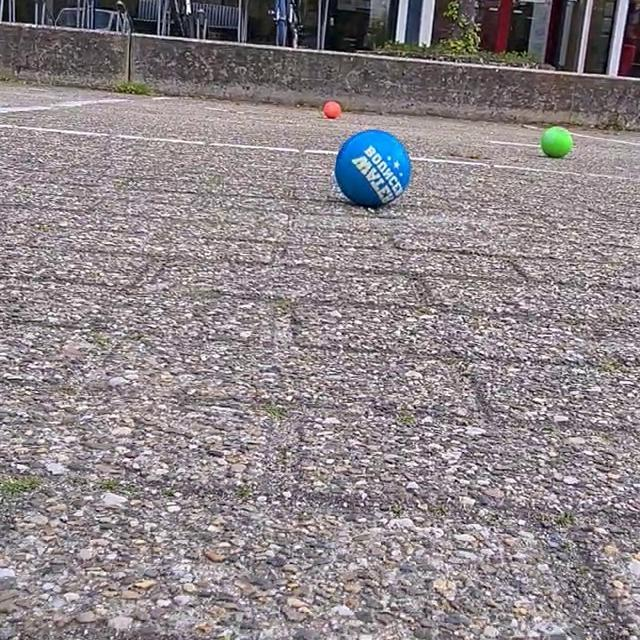ball: (539, 120, 573, 160), (322, 95, 342, 122)
